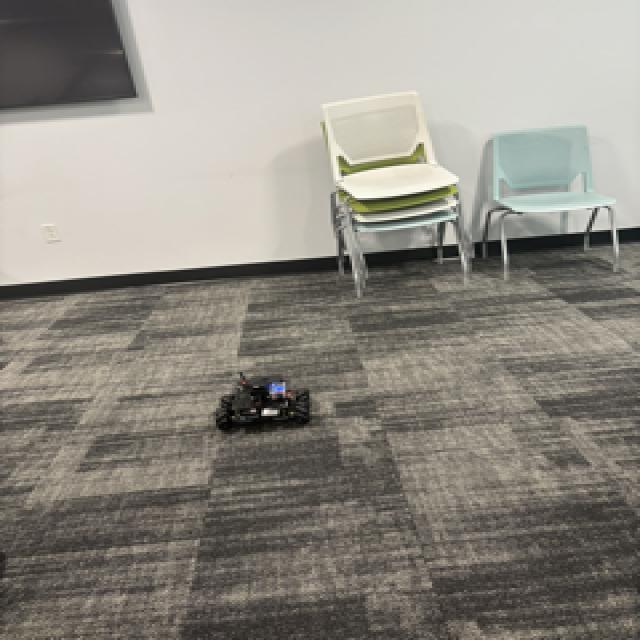ArduinoCar3: (214, 371, 314, 432)
